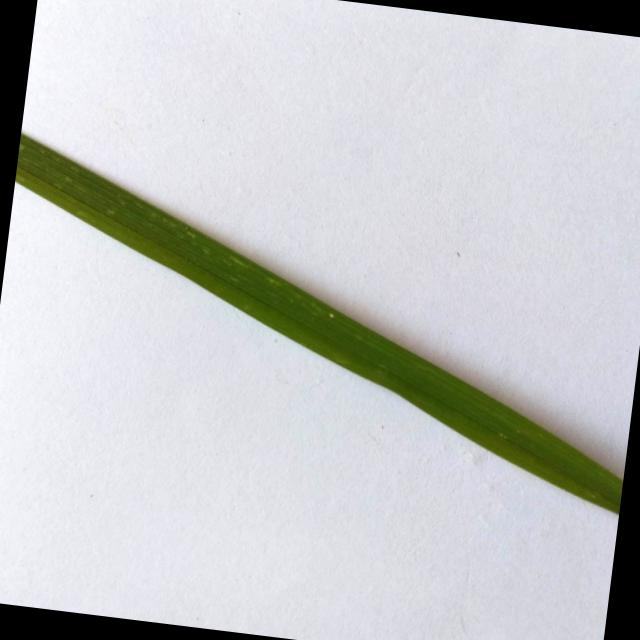Rice_Healthy: (15, 133, 622, 513)
